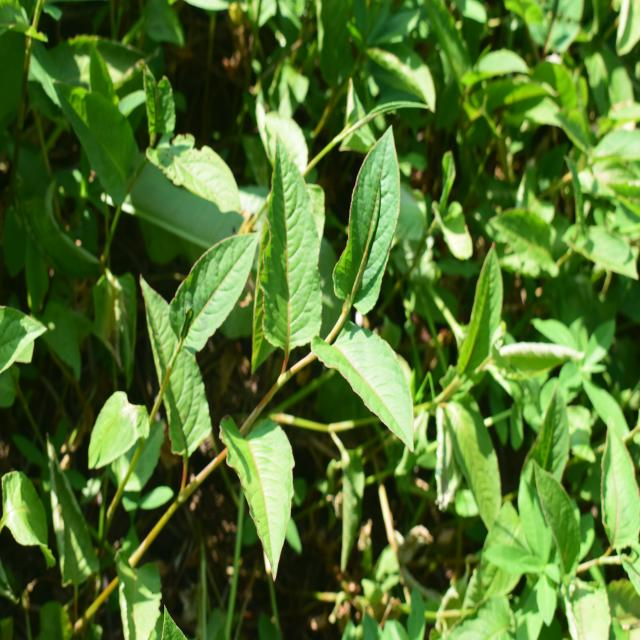Chinese_knotweed: (224, 139, 410, 530), (111, 240, 244, 473)
